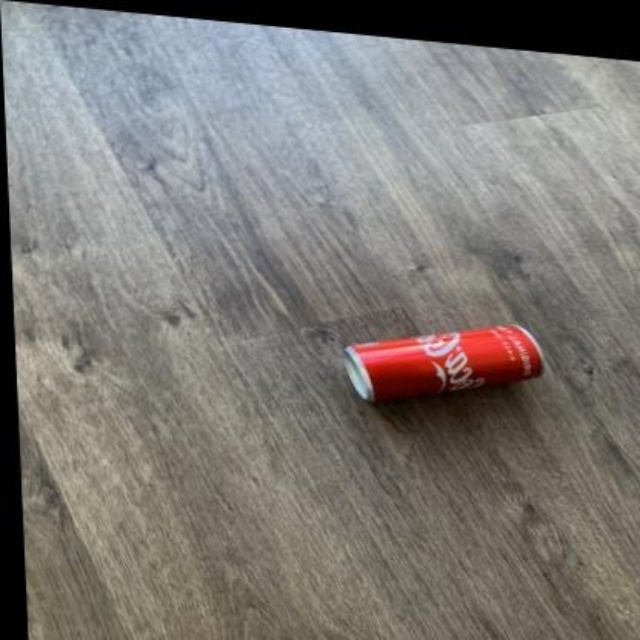trash: (345, 325, 542, 400)
